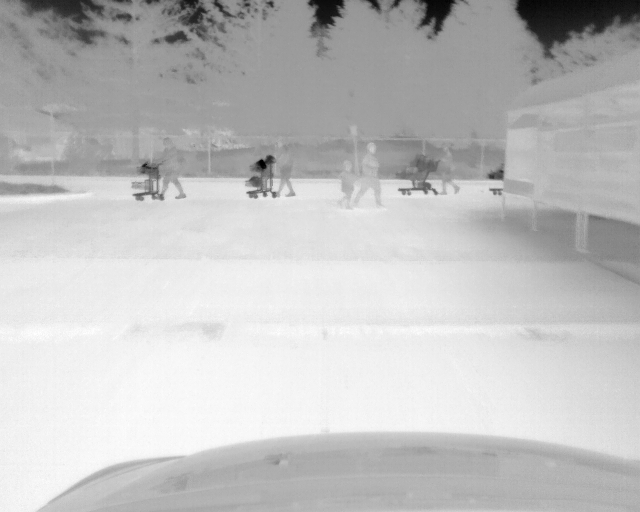people: (156, 137, 186, 202), (356, 141, 383, 213), (273, 134, 296, 197), (436, 143, 461, 197), (336, 159, 355, 211)
